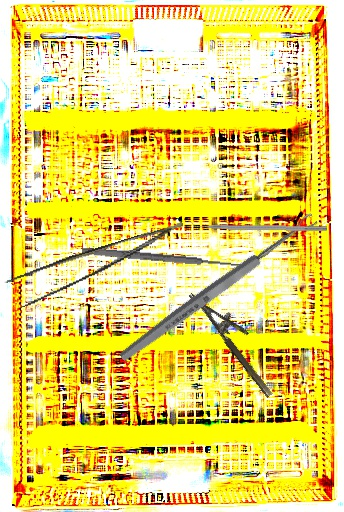Chopper: (186, 216, 328, 232)
Hook Surgical: (81, 239, 256, 272)
Needle Holder: (188, 280, 287, 399)
Surgical Spoon: (117, 211, 319, 365)
Tissue Forceps: (2, 221, 193, 311)
